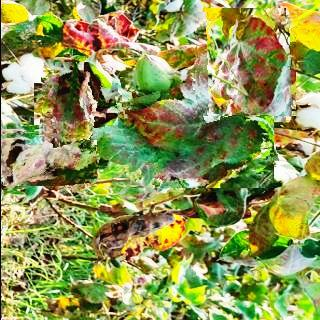blight: (119, 70, 273, 188), (193, 14, 295, 116), (0, 124, 96, 186), (40, 70, 109, 138)
